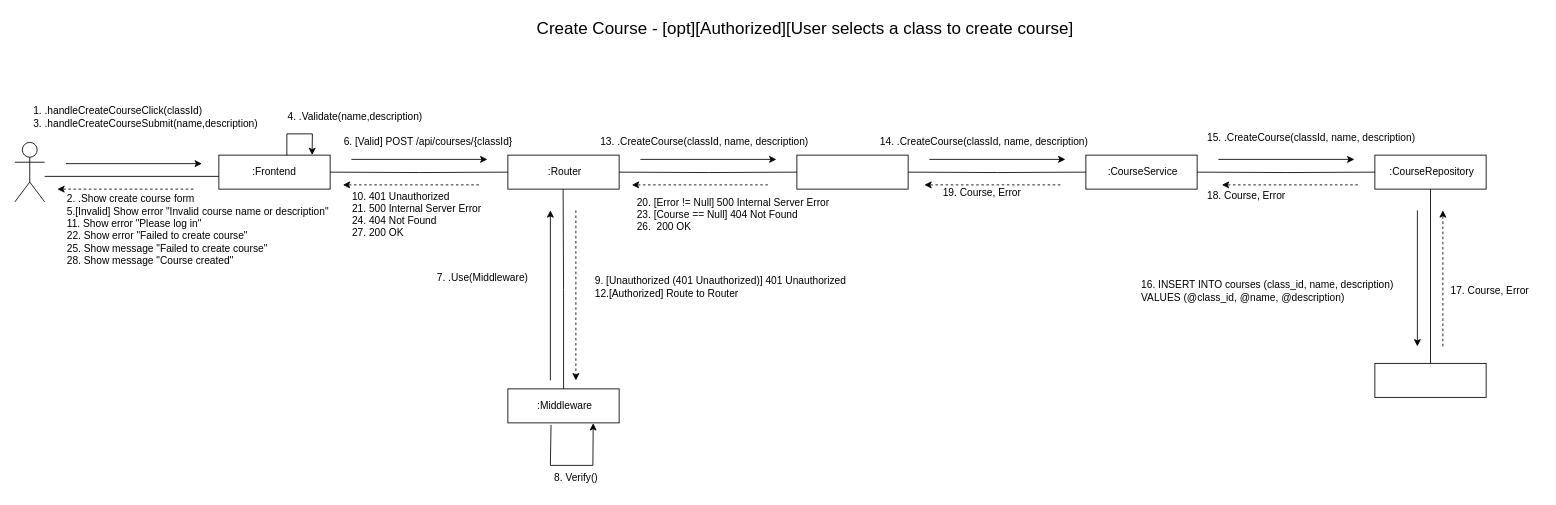
The diagram is 1556 pixels wide and 505 high, and some of its shapes have lost their labels. Here are the shapes that lost their labels. From the top down, the centre of each, then its label:
the point at 29,172: User
the point at 852,171: :CourseController
the point at 1430,380: :Database
